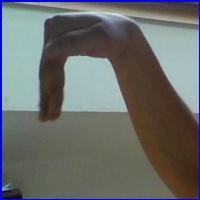del: (31, 10, 160, 132)
